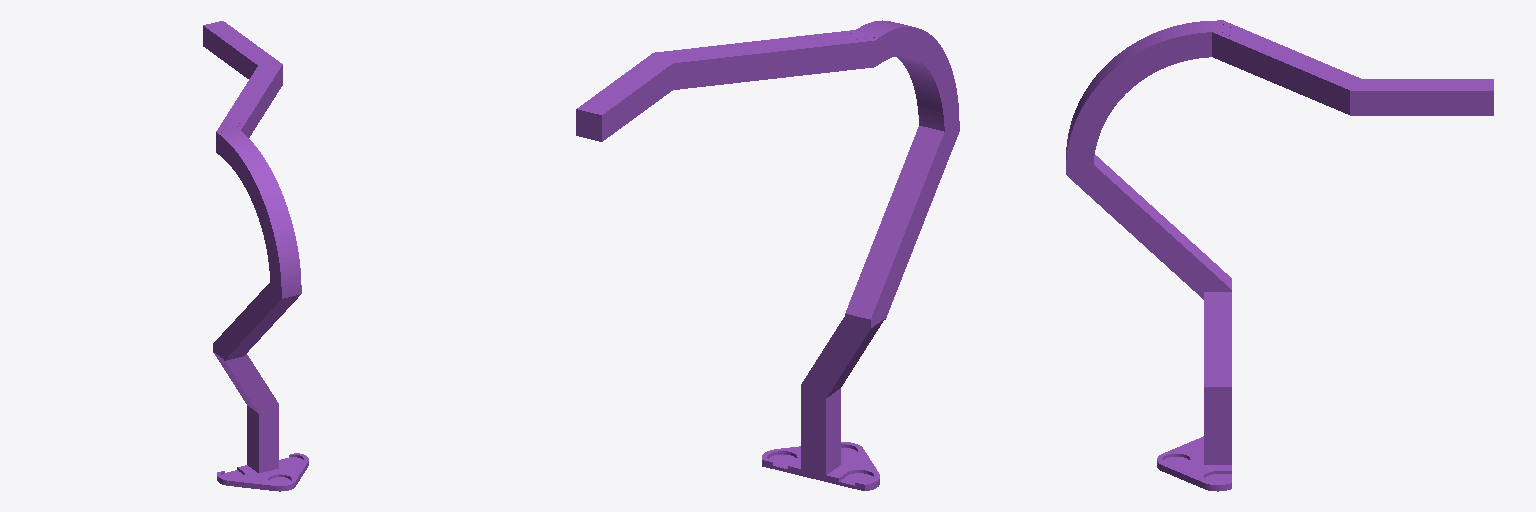
The robot description file, URDF, robot "puzzle_E":
<?xml version="1.0"?>
<!-- puzzle_E: standalone static model from E.step.
     Mesh in millimetres (scale 0.001). Link origin = STEP-file origin, unchanged.
     Mass/inertia assume density 1.24 g/cm^3 -> 43.6 g (material not given in the STEP). -->
<robot name="puzzle_E">
  <material name="puzzle_E_color"><color rgba="0.65 0.40 0.80 1.0"/></material>
  <link name="puzzle_E_link">
    <visual>
      <geometry><mesh filename="meshes/puzzle_E.stl" scale="0.001 0.001 0.001"/></geometry>
      <material name="puzzle_E_color"/>
    </visual>
    <collision>
      <geometry><mesh filename="meshes/puzzle_E.stl" scale="0.001 0.001 0.001"/></geometry>
    </collision>
    <inertial>
      <origin xyz="-0.002005 0.003258 0.109268" rpy="0 0 0"/>
      <mass value="0.04361"/>
      <inertia ixx="1.9888e-04" ixy="-2.8162e-05" ixz="-1.4096e-05" iyy="1.5131e-04" iyz="-3.1473e-05" izz="7.8345e-05"/>
    </inertial>
  </link>
</robot>

--- Render facts (derived) ---
The picture shows the robot from 3 angles, left to right: view 1: azimuth 30°, elevation 25°; view 2: azimuth 150°, elevation 25°; view 3: azimuth 270°, elevation 25°; orthographic projection.
Robot: puzzle_E — 1 links, 0 joints (none); root link puzzle_E_link; default pose: all joints at 0.
Links seen in each view (by area): view 1: puzzle_E_link; view 2: puzzle_E_link; view 3: puzzle_E_link.
Boxes of the visible links, box(x1,y1,x2,y2) form: puzzle_E_link: box(203, 21, 308, 491); puzzle_E_link: box(576, 20, 959, 490); puzzle_E_link: box(1066, 20, 1493, 491).
Size in the robot's own frame: 0.06 by 0.155 by 0.1675 metres.
1 mesh visuals loaded from 1 distinct referenced files (1 binary STL).
